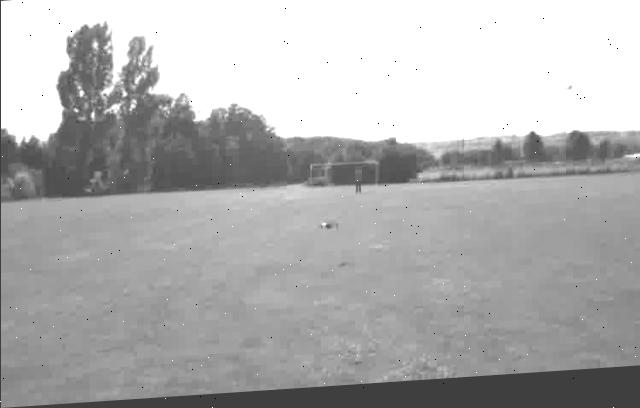drone: (316, 223, 342, 235)
